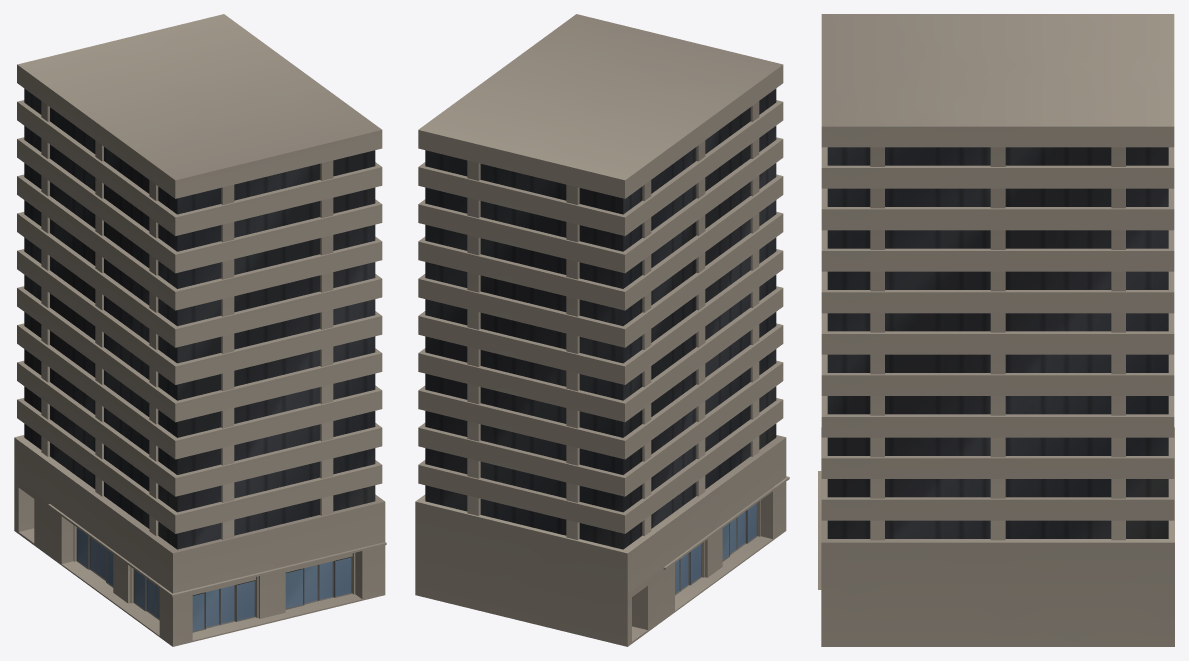
The model's file is Bld_Building_F.fbx.
The picture shows the model from 3 angles, left to right: view 1: azimuth 30°, elevation 25°; view 2: azimuth 150°, elevation 25°; view 3: azimuth 270°, elevation 25°; orthographic projection. The views are drawn at different scales.
Parts seen in each view (by area): view 1: Bld_Building_F; view 2: Bld_Building_F; view 3: Bld_Building_F.
Part boxes in pixels (x1=…): Bld_Building_F: x1=14, y1=14, x2=386, y2=646; Bld_Building_F: x1=415, y1=14, x2=789, y2=646; Bld_Building_F: x1=818, y1=14, x2=1174, y2=646.
Bounding box in the file's own units: 1686 × 3500 × 2181.
